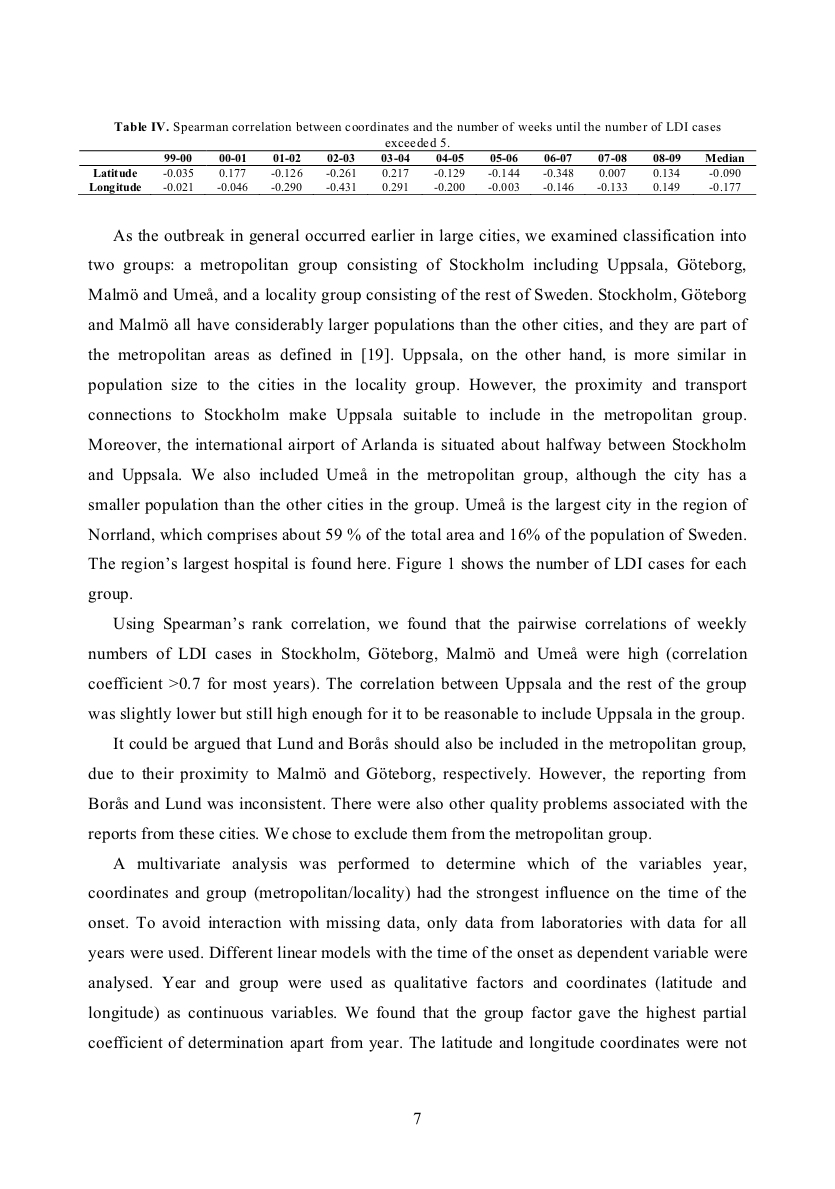Table: (78, 122, 756, 194)
